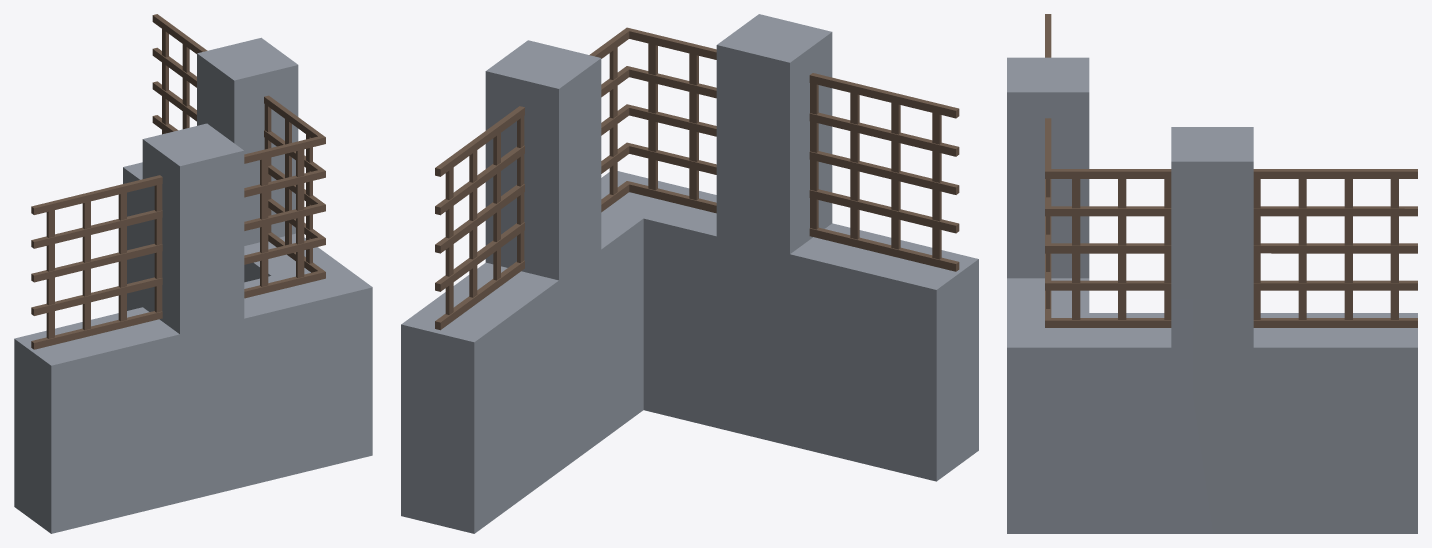
File: Fence_10.fbx
3 views of the same model, side by side, from view 1: azimuth 30°, elevation 25°; view 2: azimuth 150°, elevation 25°; view 3: azimuth 270°, elevation 25° (orthographic). The views are drawn at different scales.
Parts seen in each view (by area): view 1: Fence_10; view 2: Fence_10; view 3: Fence_10.
Boxes of the visible parts, x1,y1,x2,y2 form: Fence_10: (14,14,372,533); Fence_10: (401,14,978,533); Fence_10: (1007,14,1417,533).
Size of the model in its own units: 200 by 200 by 200.
